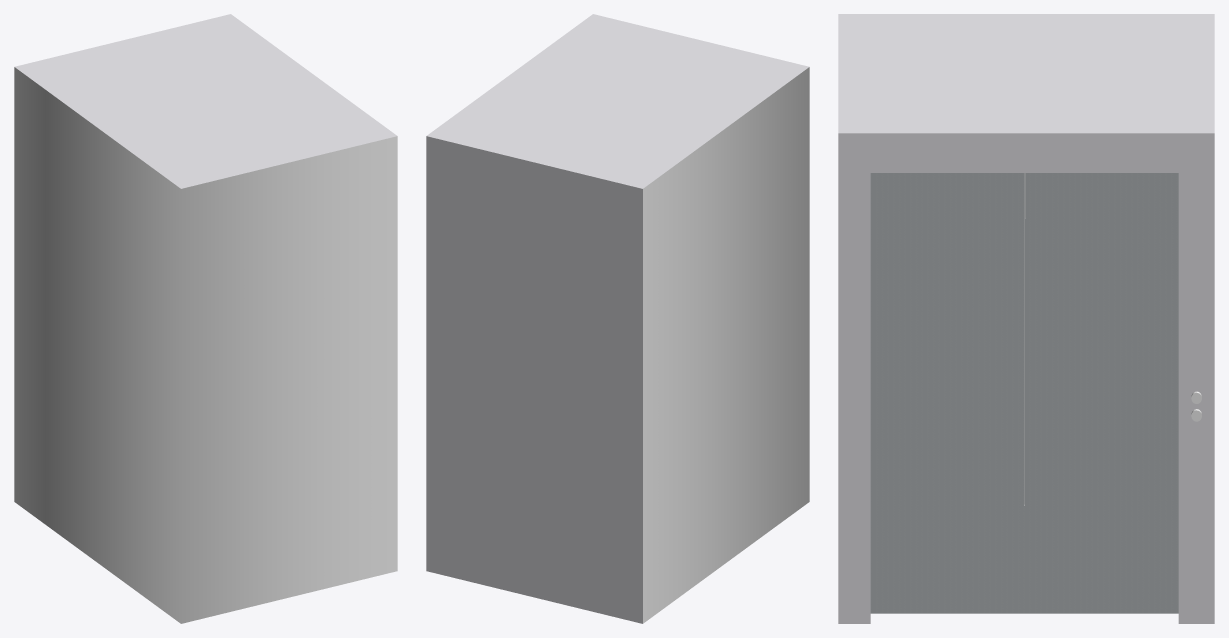
File: dianti.obj
The picture shows the model from 3 angles, left to right: view 1: azimuth 30°, elevation 25°; view 2: azimuth 150°, elevation 25°; view 3: azimuth 270°, elevation 25°; orthographic projection. The views are drawn at different scales.
Visible parts, largest first — view 1: __1; view 2: __1; view 3: __1.
Boxes of the visible parts, bbox=[...] form: __1: bbox=[14, 14, 397, 623]; __1: bbox=[426, 14, 809, 623]; __1: bbox=[838, 14, 1214, 623].
Bounding box in the file's own units: 3019 × 5730 × 3982.
3 materials, 2 textured.
